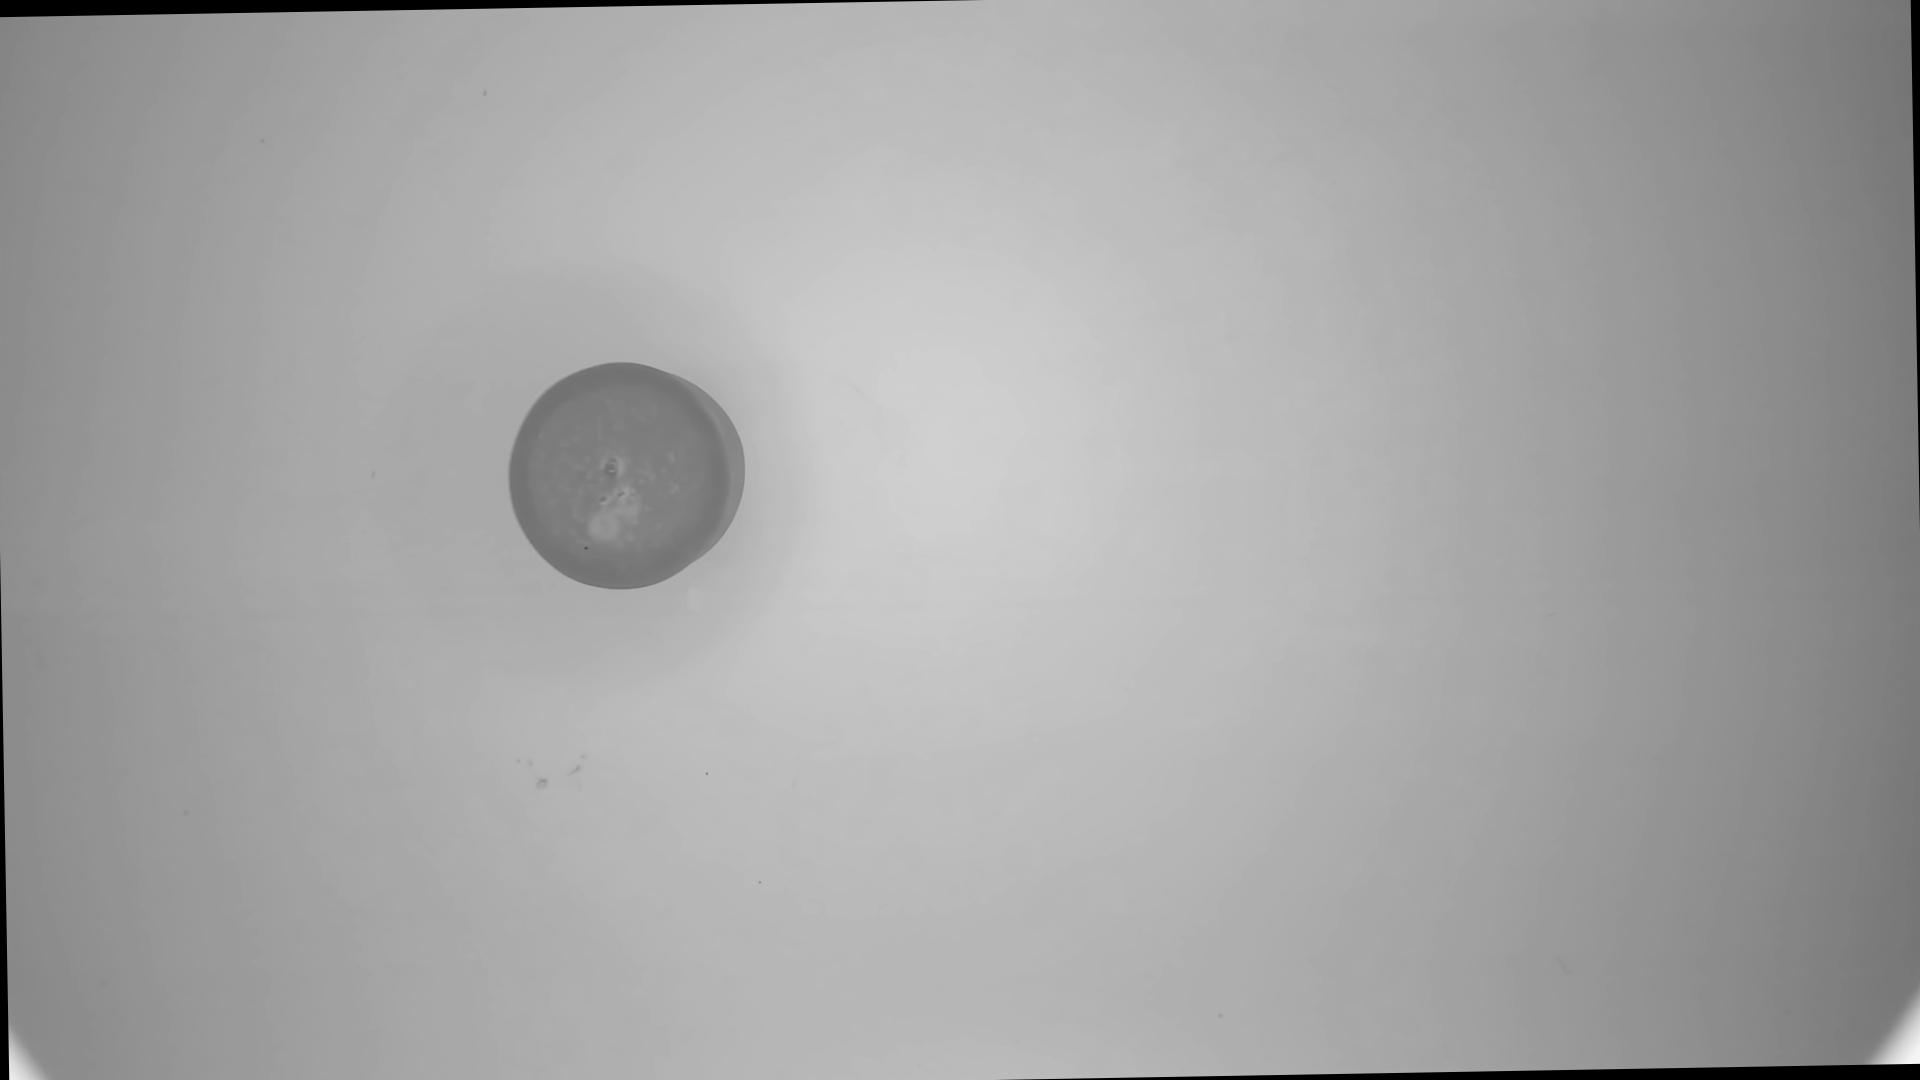abnormal: (505, 356, 753, 593)
